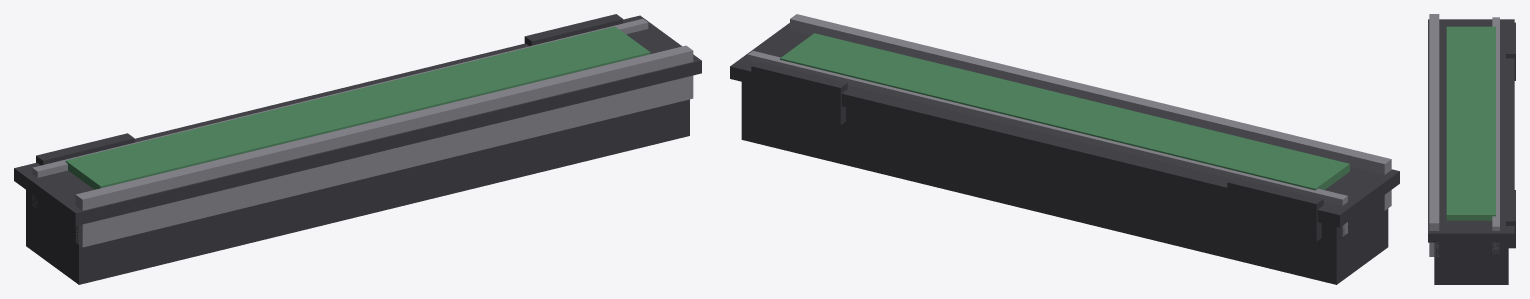
Rendered from sensor_bar.gltf.
3 renders of one model, left to right at view 1: azimuth 30°, elevation 25°; view 2: azimuth 150°, elevation 25°; view 3: azimuth 270°, elevation 25°, orthographic. The views are drawn at different scales.
Parts seen in each view (by area): view 1: sensor_bar; view 2: sensor_bar; view 3: sensor_bar.
Boxes of the visible parts, bbox=[...] form: sensor_bar: bbox=[14, 14, 701, 284]; sensor_bar: bbox=[730, 14, 1399, 284]; sensor_bar: bbox=[1428, 14, 1515, 284].
Bounding box in the file's own units: 0.205 × 0.0275 × 0.0355.
